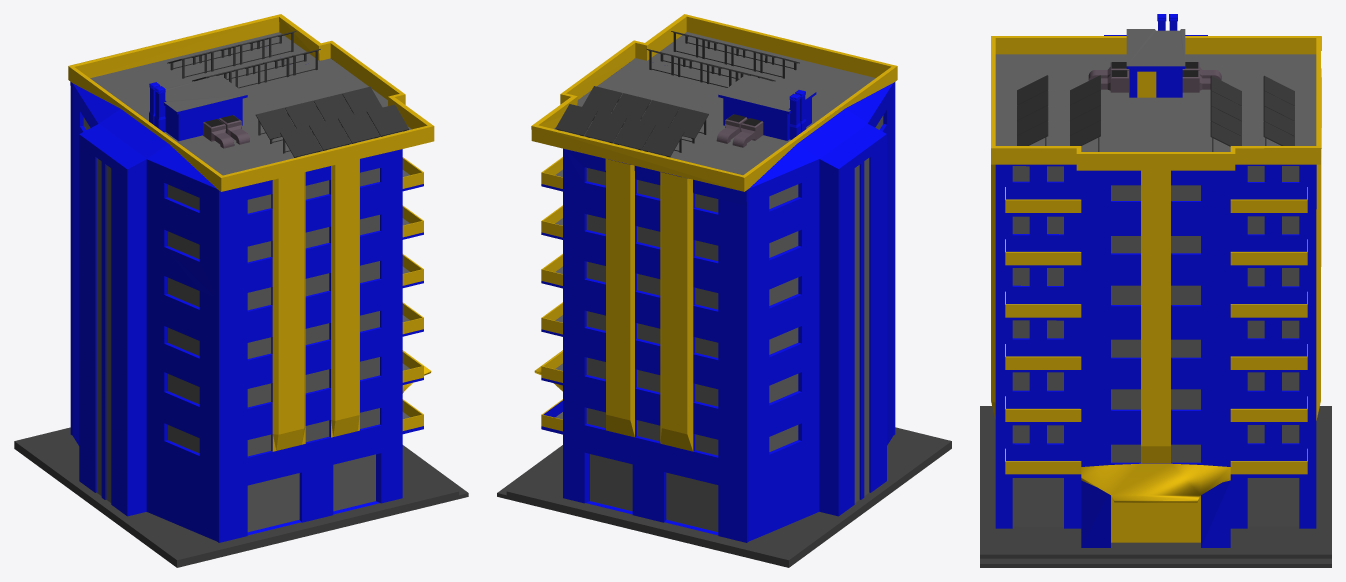
File: EdificioJoinedNoTex.dae
The picture shows the model from 3 angles, left to right: view 1: azimuth 30°, elevation 25°; view 2: azimuth 150°, elevation 25°; view 3: azimuth 270°, elevation 25°; orthographic projection. The views are drawn at different scales.
Visible parts, largest first — view 1: Panel Solar2; view 2: Panel Solar2; view 3: Panel Solar2.
Part boxes in pixels (x1,y1,x2,y2): Panel Solar2: (14, 14, 468, 567); Panel Solar2: (497, 14, 951, 567); Panel Solar2: (980, 14, 1331, 567).
Bounding box in the file's own units: 8.64 × 7.7 × 10.49.
